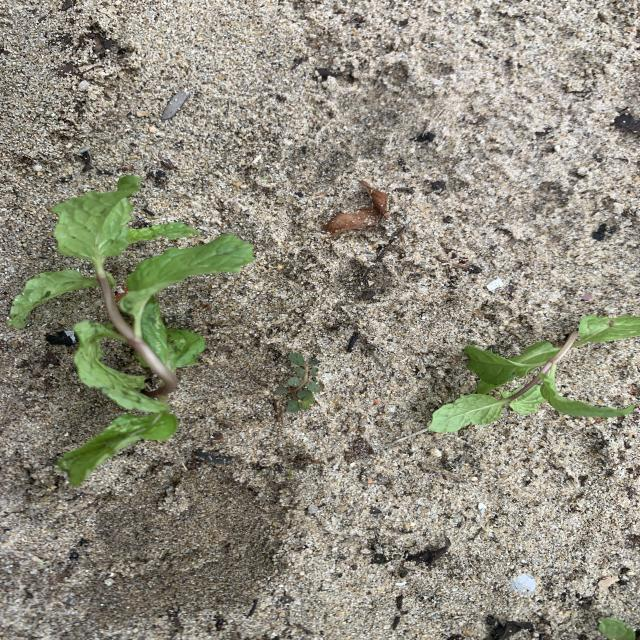crop: (7, 176, 253, 485), (428, 315, 640, 432)
weed: (273, 353, 324, 421), (598, 617, 640, 640)
